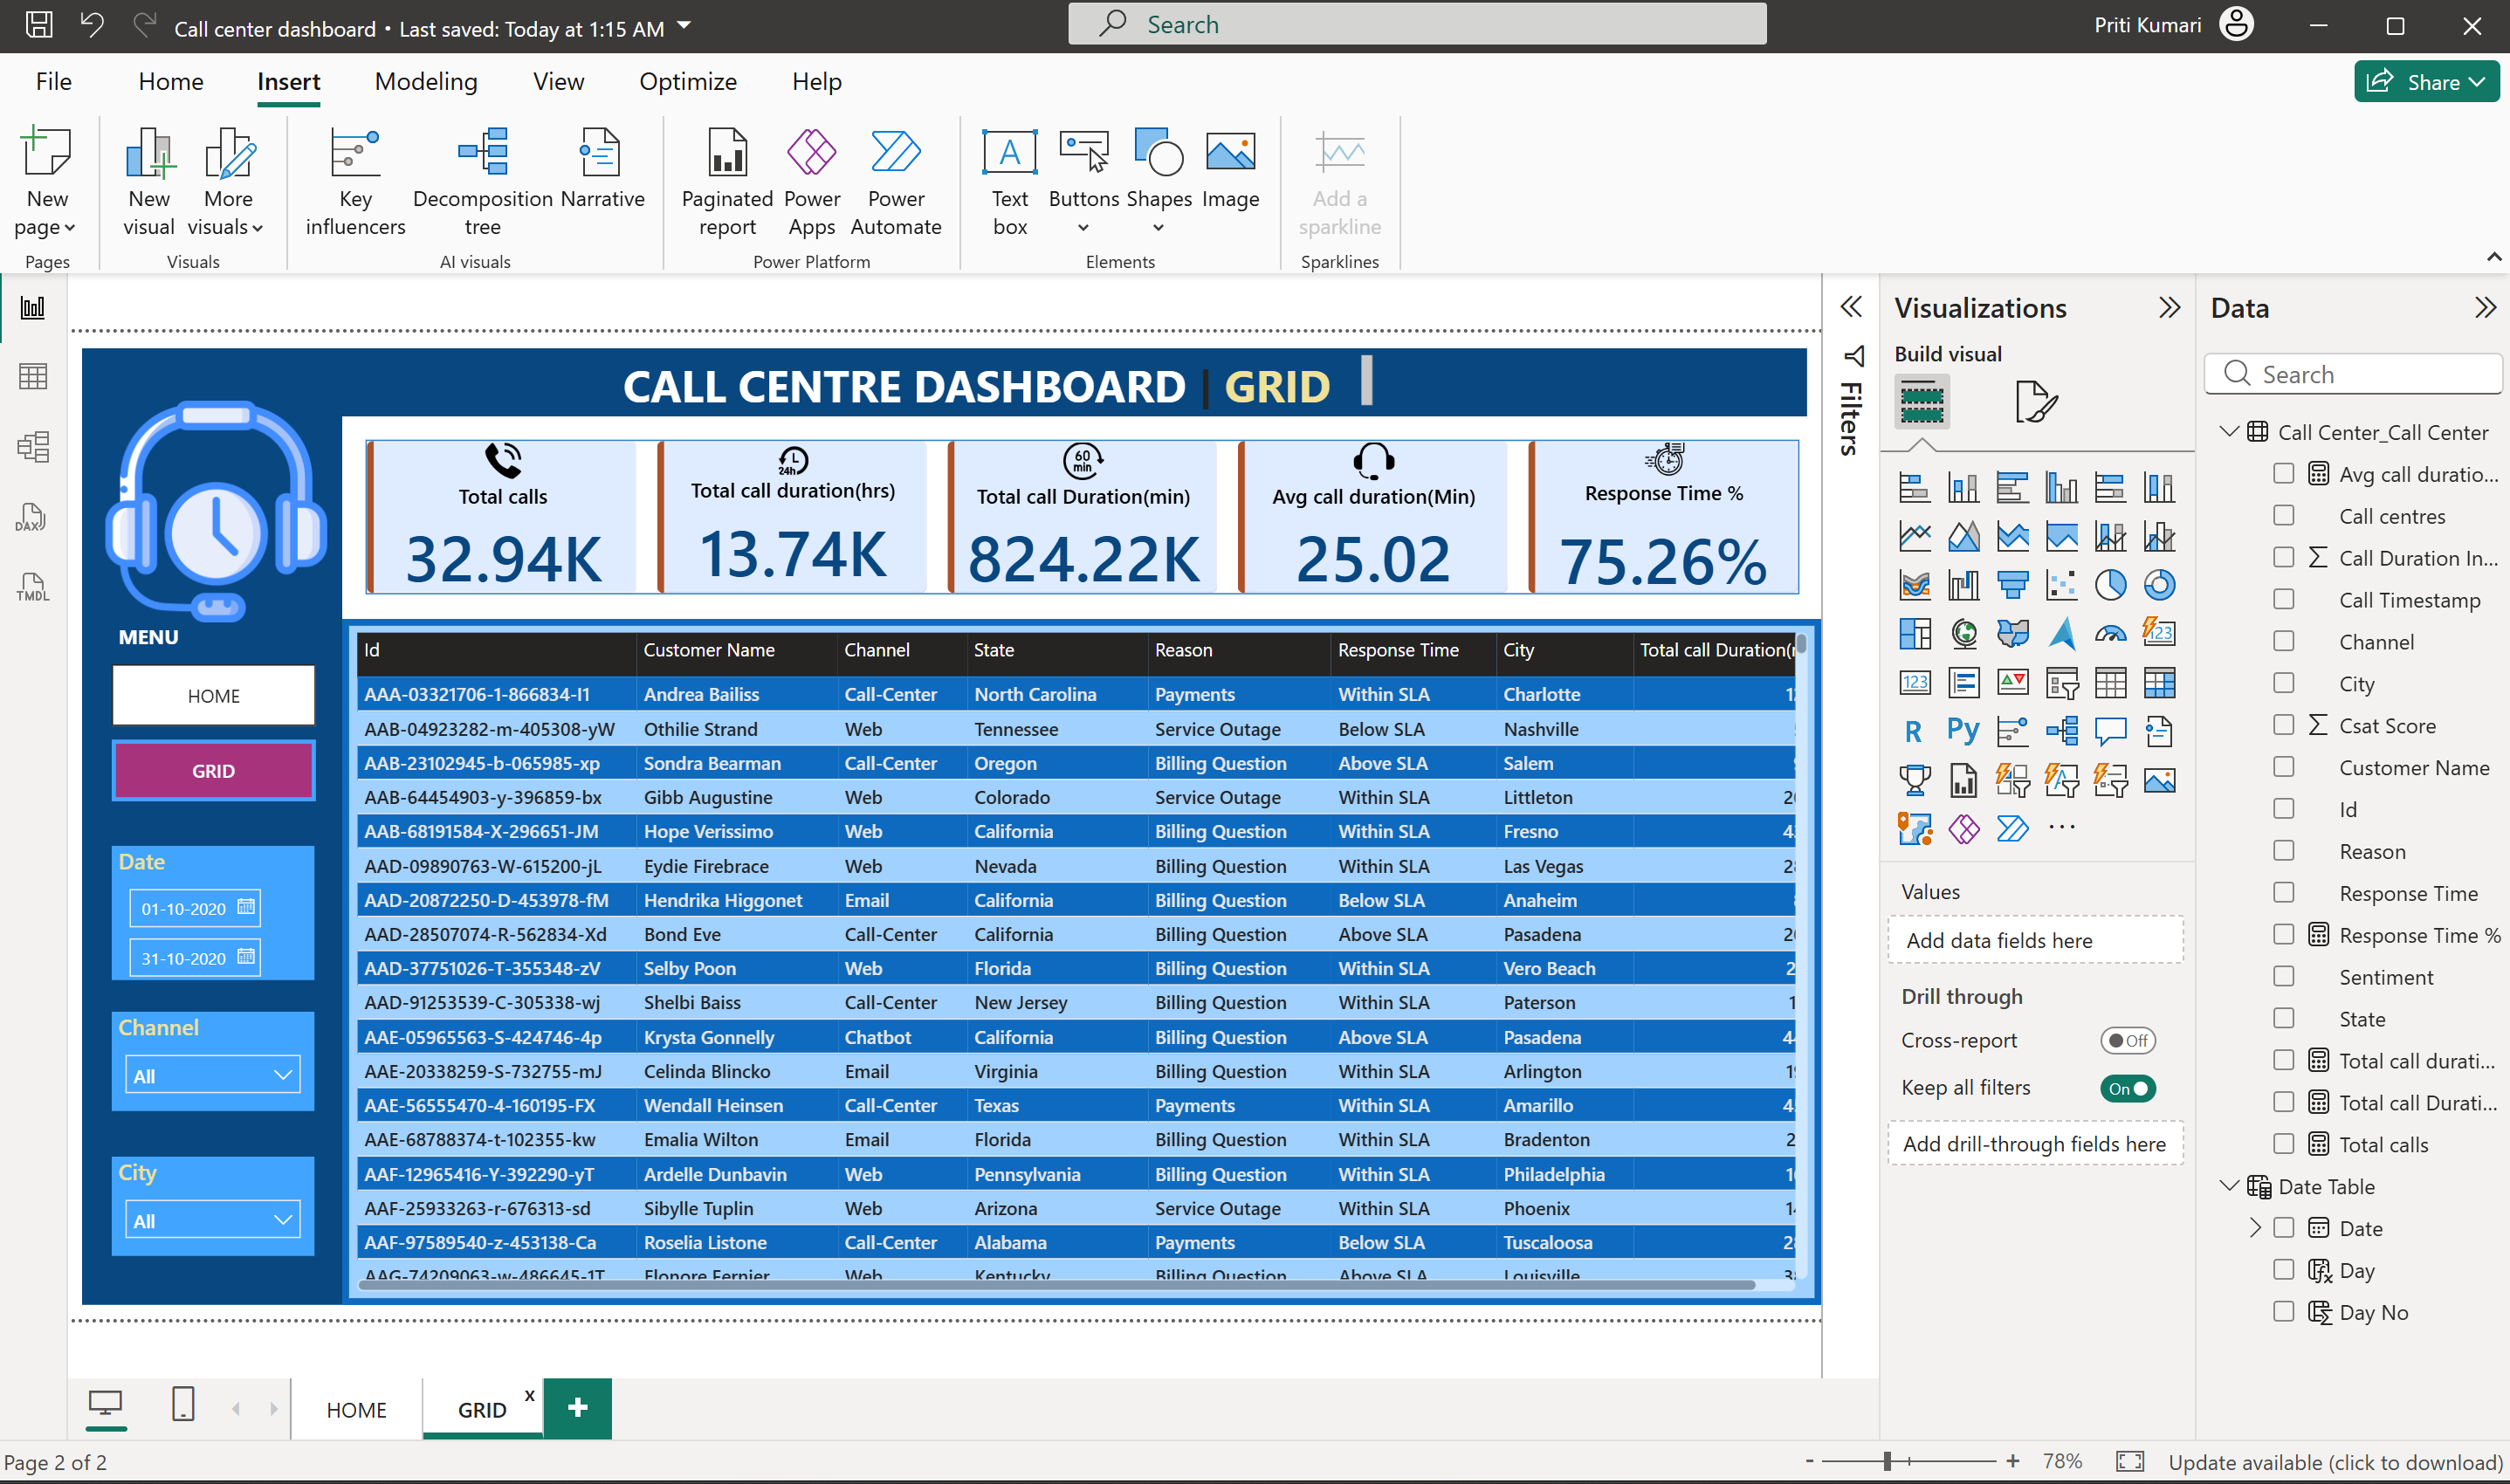

The page's visual inventory and layout, read from the dashboard file:
{"tool":"powerbi","page":{"name":"GRID","canvas":[1280,720],"ordinal":1},"visuals":[{"type":"shape","box":[10.2,11.5,1259.6,51],"z":0},{"type":"shape","box":[10.2,11.5,190,698.6],"z":1000},{"type":"cardVisual","fields":{"Data":["Call Center_Call Center.Total calls","Call Center_Call Center.Total call duration(hrs)","Call Center_Call Center.Total call Duration(min)","Call Center_Call Center.Avg call duration(Min)","Call Center_Call Center.Response Time %"]},"box":[200.2,61.2,1081.1,147.9],"z":2000},{"type":"textbox","box":[400.3,11.5,557.1,49.7],"z":3000},{"type":"slicer","title":"Date","fields":{"Values":["Date Table.Date"]},"box":[31.9,374.8,147.9,98.2],"z":4000},{"type":"slicer","title":"Channel","fields":{"Values":["Call Center_Call Center.Channel"]},"box":[31.9,495.9,147.9,72.7],"z":5000},{"type":"slicer","title":"City","fields":{"Values":["Call Center_Call Center.City"]},"box":[31.9,601.8,147.9,72.7],"z":6000},{"type":"image","box":[229.5,211.6,170.8,131.3],"z":7000},{"type":"tableEx","fields":{"Values":["Call Center_Call Center.Id","Call Center_Call Center.Customer Name","Call Center_Call Center.Channel","Call Center_Call Center.State","Call Center_Call Center.Reason","Call Center_Call Center.Response Time","Call Center_Call Center.City","Call Center_Call Center.Total call Duration(min)"]},"box":[200.2,209.1,1079.8,501],"z":8000},{"type":"pageNavigator","box":[31.9,242.2,149.2,100.7],"z":9000},{"type":"textbox","box":[31.9,206.5,63.7,35.7],"z":10000},{"type":"image","box":[10.2,49.7,196.3,161.9],"z":10002}]}

Visuals, with their boxes on the page's 1280x720 design canvas (x1, y1, x2, y2). These are canvas units, not pixel positions in the 2510x1484 screenshot, which may show the page scaled, cropped or inside an application window:
shape: 10,12,1270,62
shape: 10,12,200,710
cardVisual - Call Center_Call Center.Total calls x Call Center_Call Center.Total call duration(hrs): 200,61,1281,209
textbox: 400,12,957,61
"Date" slicer: 32,375,180,473
"Channel" slicer: 32,496,180,569
"City" slicer: 32,602,180,674
image: 230,212,400,343
tableEx - Call Center_Call Center.Id x Call Center_Call Center.Customer Name: 200,209,1280,710
pageNavigator: 32,242,181,343
textbox: 32,206,96,242
image: 10,50,206,212
